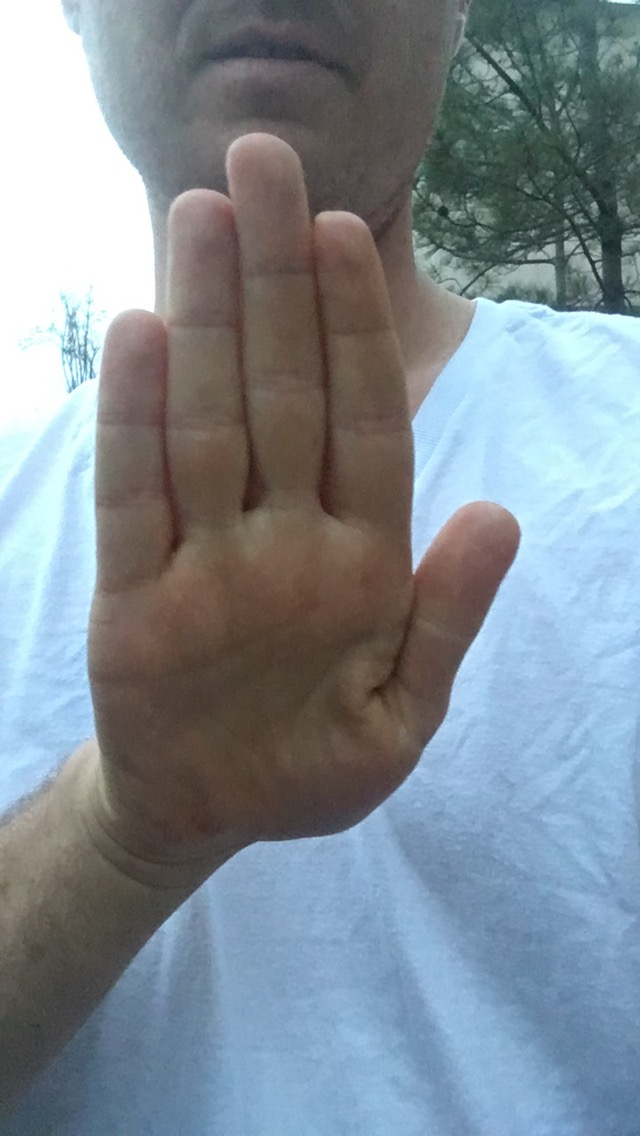defaultd: (87, 133, 521, 867)
